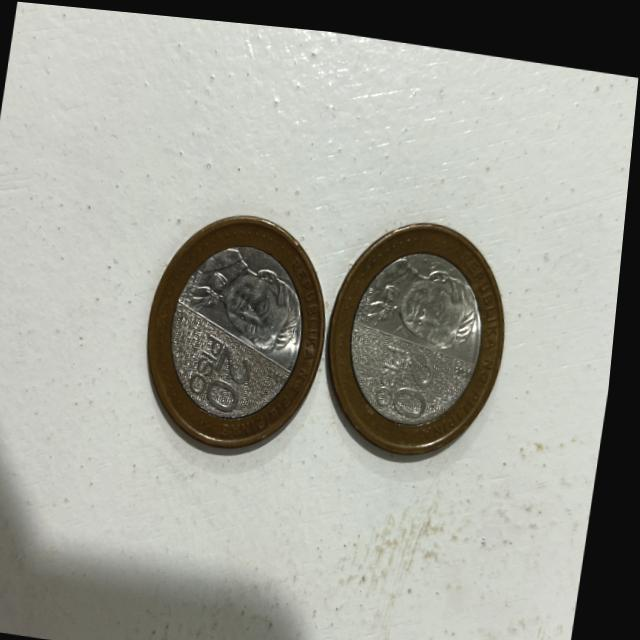20_New_Front: (185, 328, 271, 418), (372, 331, 446, 416)
